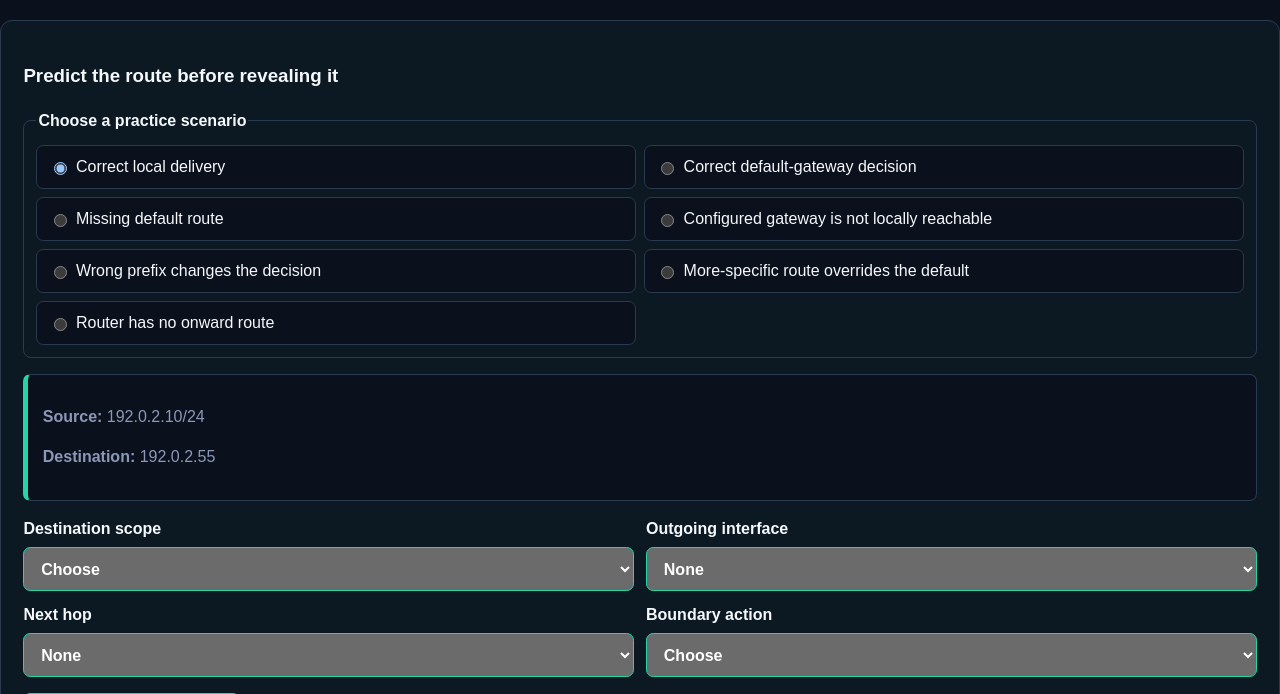
Test: RouteDecisionLab › collects four predictions and gives field-specific feedback
Select "no route" in the dropdown labelled "Destination scope": [329, 569] box x1=23 y1=547 x2=634 y2=591
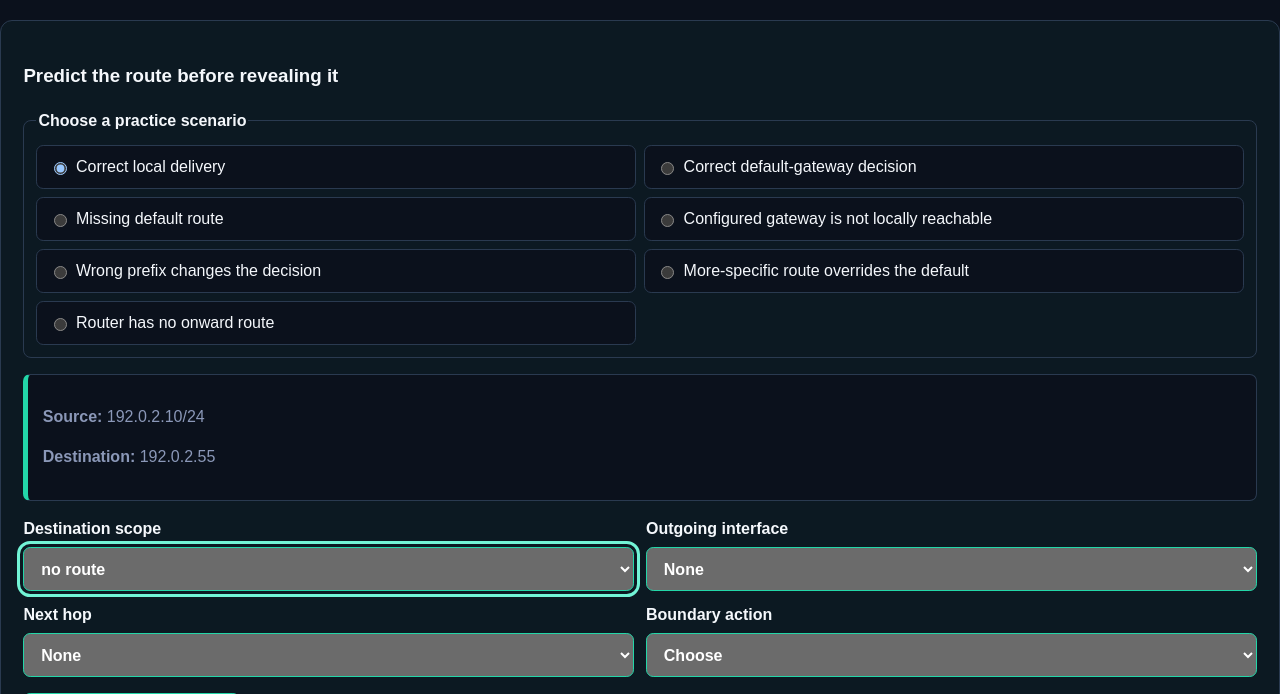
Select "Ethernet 0" in the dropdown labelled "Outgoing interface": [951, 569] box x1=646 y1=547 x2=1257 y2=591
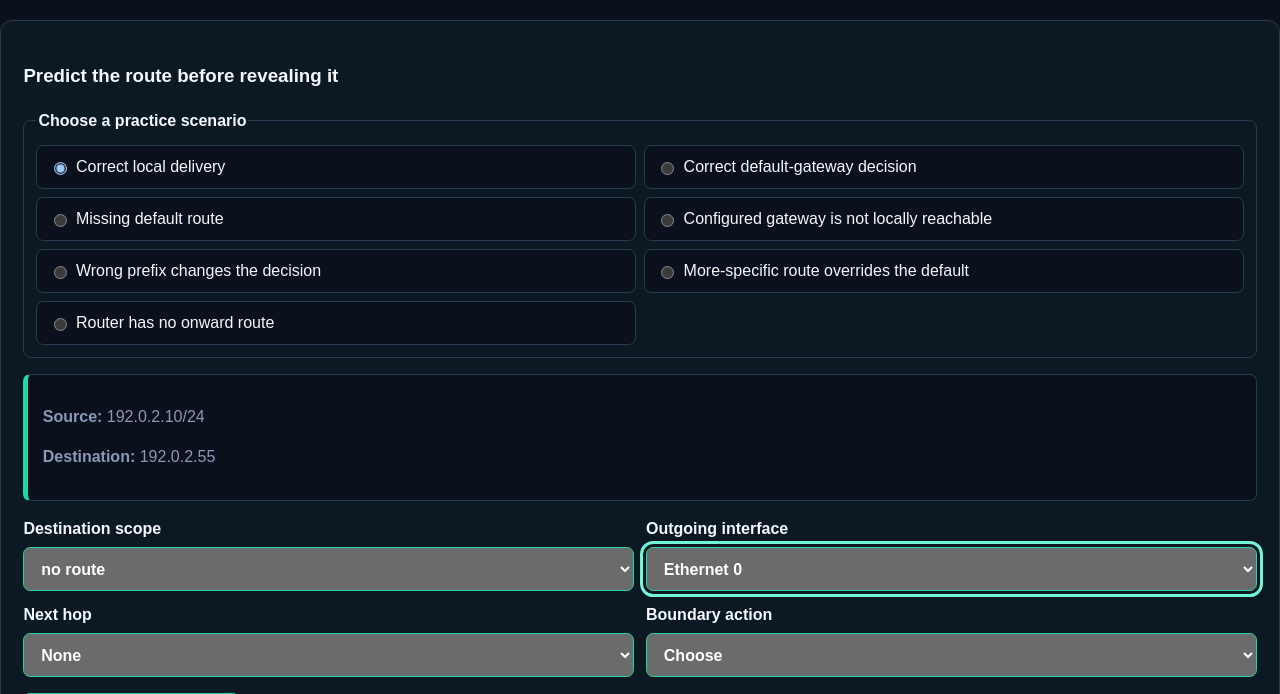
Select "None" in the dropdown labelled "Next hop": [329, 656] box x1=23 y1=634 x2=634 y2=678
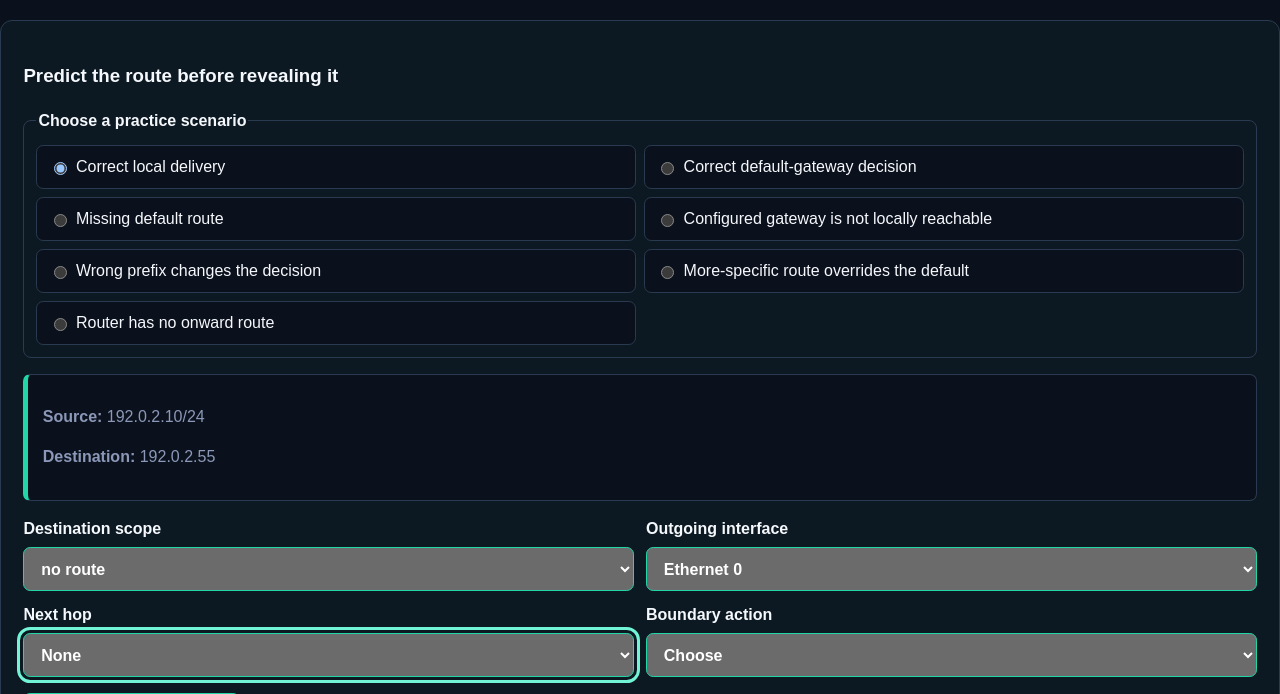
Select "host routing failure" in the dropdown labelled "Boundary action": [951, 656] box x1=646 y1=634 x2=1257 y2=678
(page scrolled)
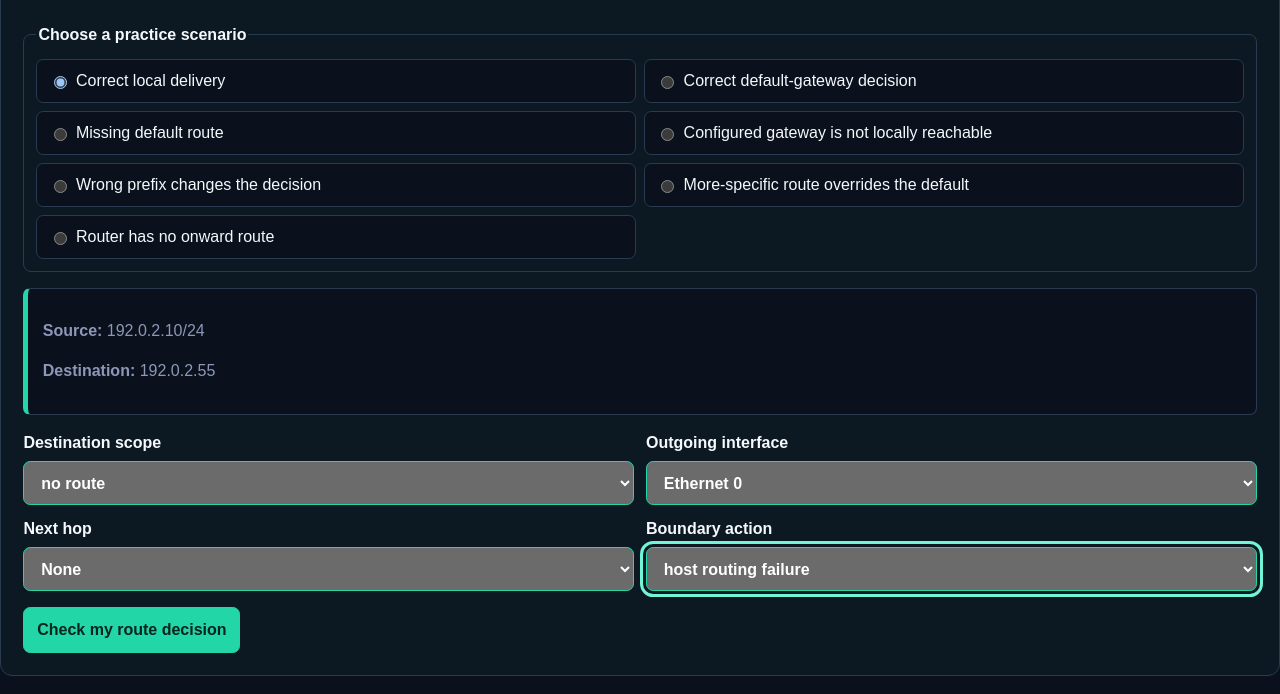
Click the button "Check my route decision": [132, 630] box x1=23 y1=608 x2=240 y2=653
(page scrolled)
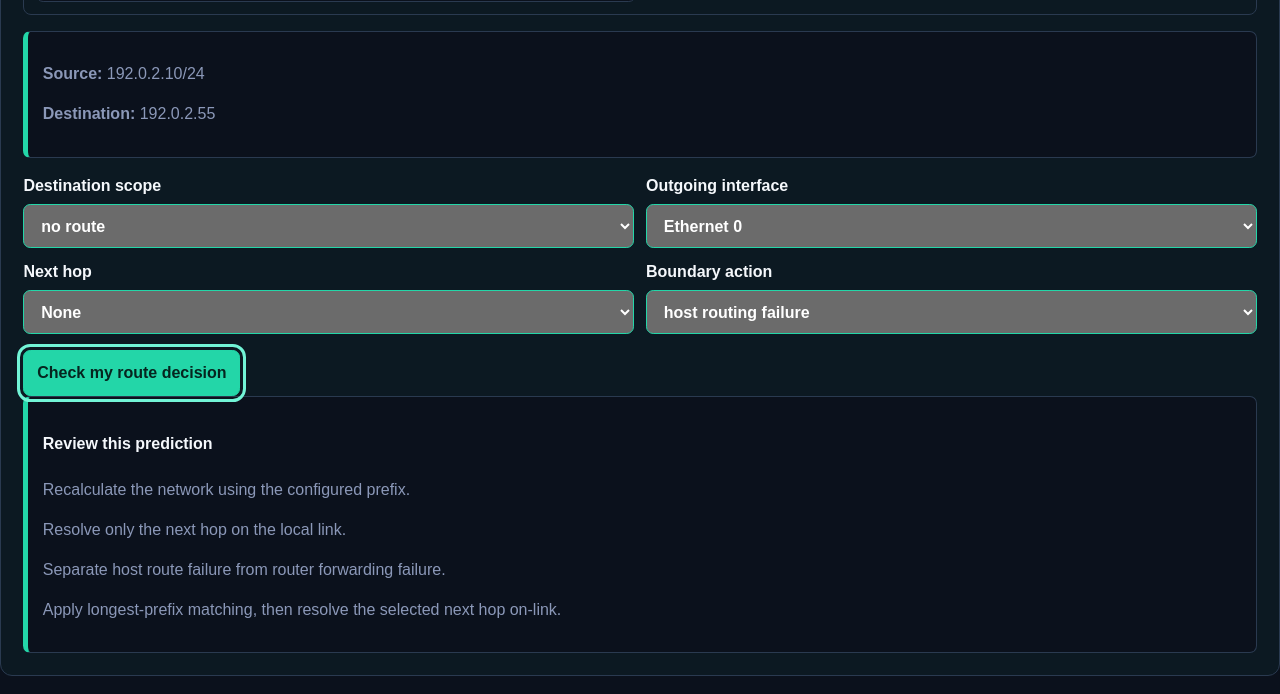
Expected: the element named "Route decision result" shows "Review this prediction", x1=43 y1=435 x2=213 y2=452
Expected: the text "Recalculate the network using the configured prefix." is shown, x1=43 y1=481 x2=410 y2=498
